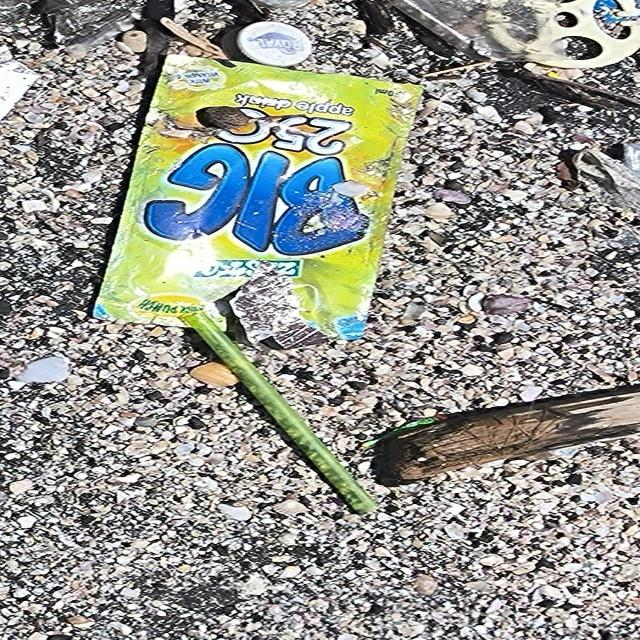plastic_waste: (90, 54, 428, 343), (178, 311, 382, 517), (220, 21, 314, 69)
wood_waste: (376, 388, 640, 482)
